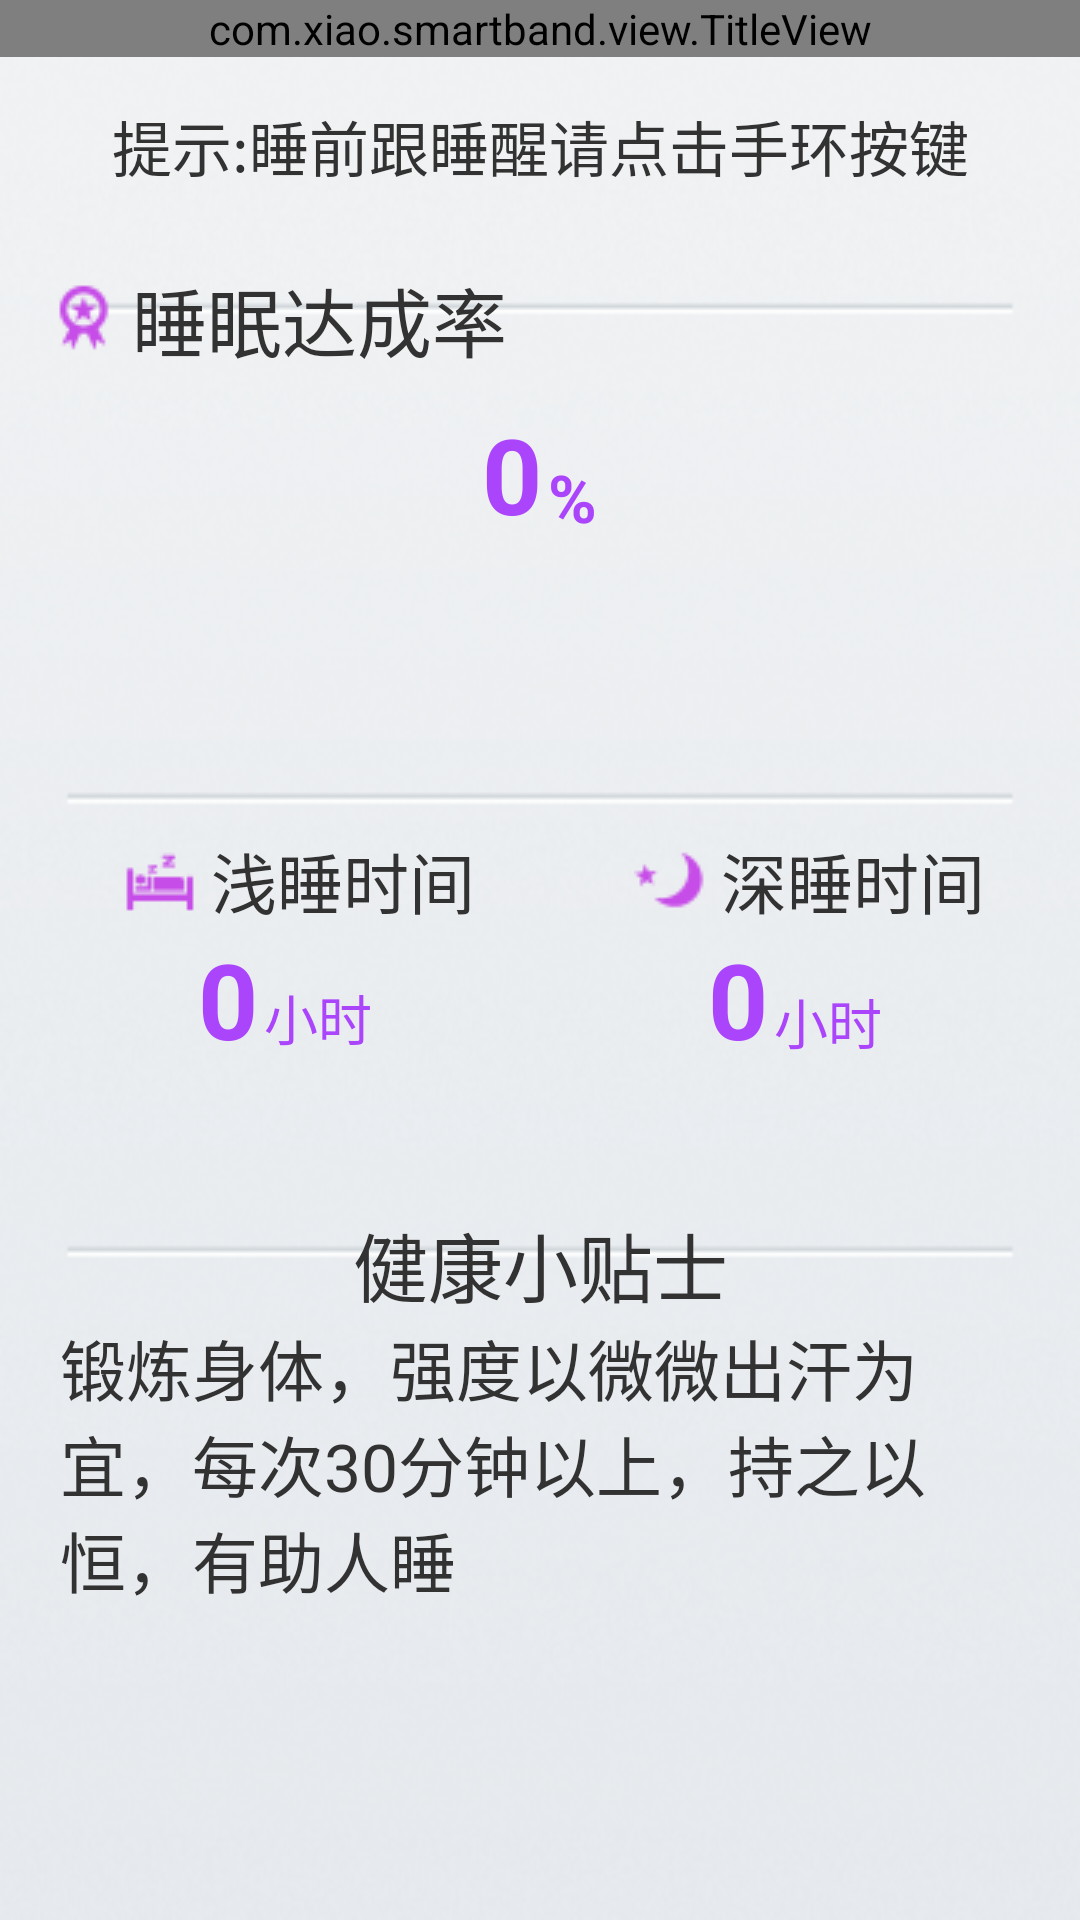

Where to tap for icons on this 1080×1920 app screen, as [x,y]:
sleep time: [160,882]
sleepaim: [88,317]
